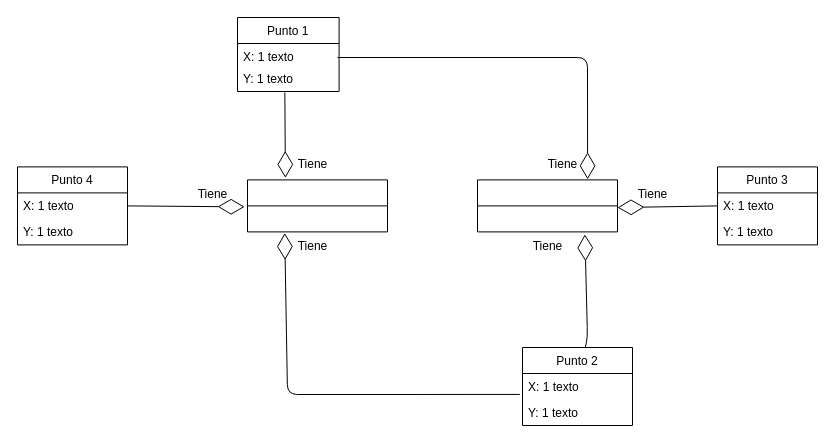
Image size: 835x446. Some labels were removed from this diagram. Here are the shapes that lost their labels. From the top down, the centre of each, then its label:
point 317,205: Triángulo 1
point 547,205: Triángulo 2
